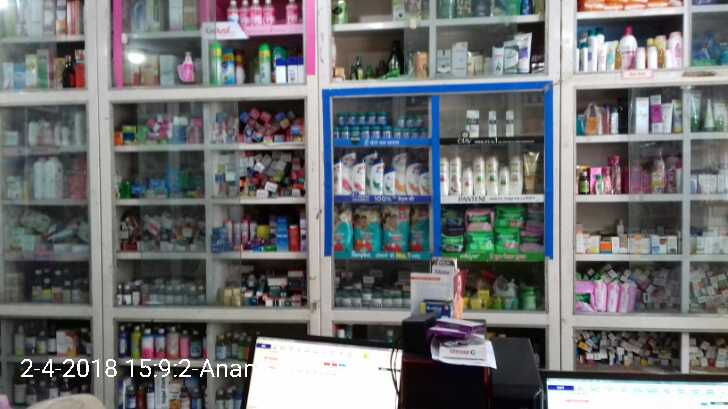vicks: (407, 113, 416, 129), (378, 111, 389, 124), (335, 111, 345, 125), (371, 126, 381, 139), (345, 111, 355, 124), (393, 128, 403, 140), (343, 126, 353, 138), (355, 112, 365, 124), (416, 112, 423, 129), (362, 126, 371, 139), (353, 126, 362, 139), (365, 112, 376, 122), (399, 113, 407, 126), (384, 125, 391, 139), (334, 128, 343, 138)
